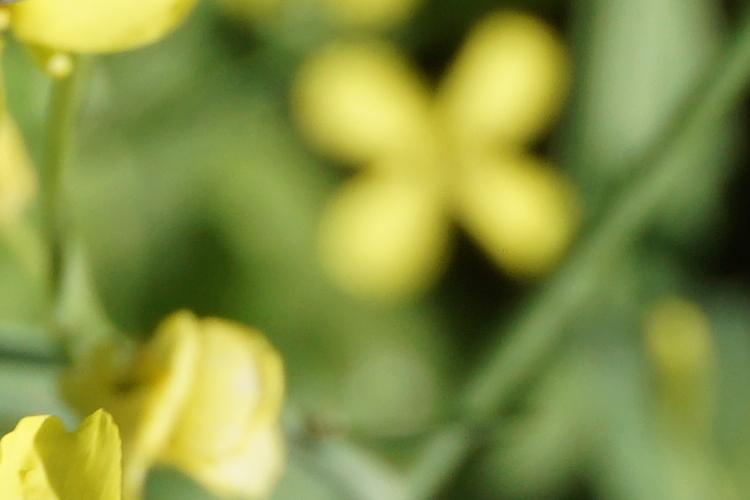yellow: (292, 32, 602, 304), (58, 298, 295, 493), (1, 405, 124, 500)
